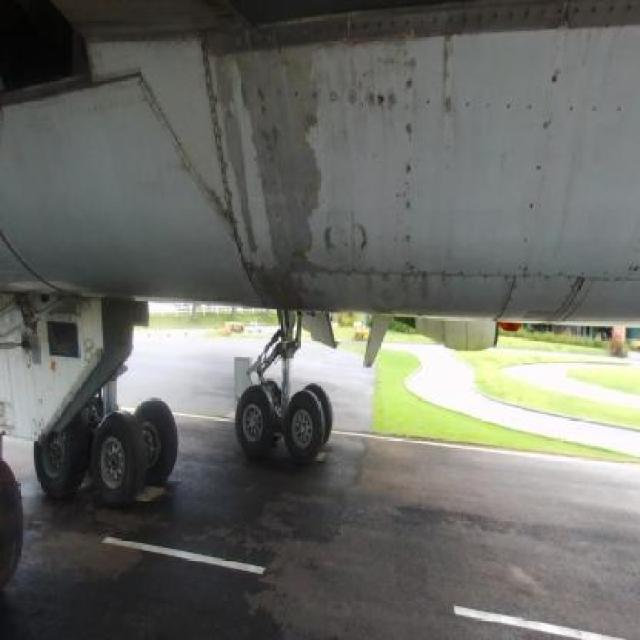Missing-Rivet: (304, 261, 513, 293), (247, 77, 405, 117), (395, 62, 422, 269), (453, 4, 638, 31), (208, 18, 352, 50), (417, 88, 540, 120), (538, 34, 570, 146), (522, 147, 546, 276), (356, 7, 449, 38), (554, 260, 637, 294), (560, 94, 638, 128)
Scartch: (211, 44, 324, 296), (325, 49, 420, 140), (322, 205, 381, 269), (440, 94, 460, 115)
